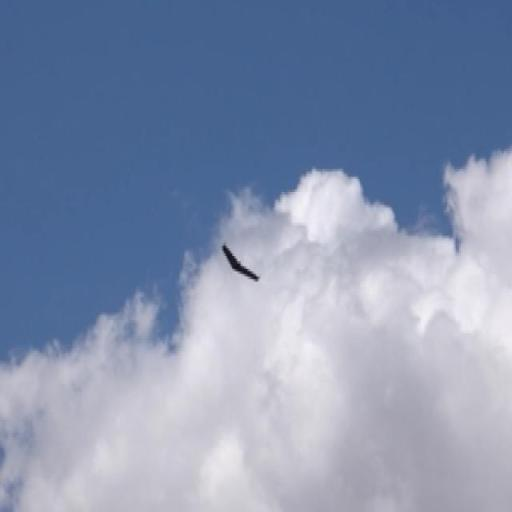uav: (222, 236, 272, 292)
